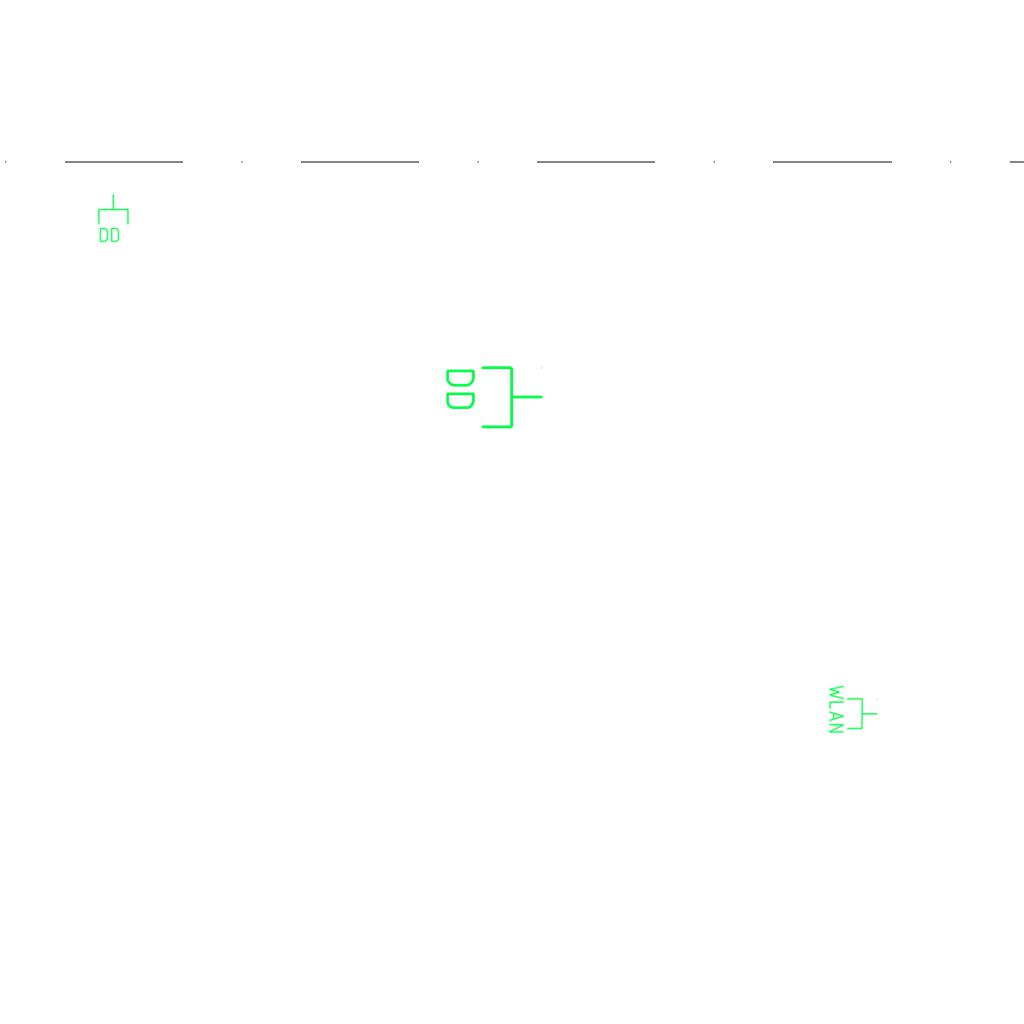Datenanschluss_zweifach: (442, 362, 545, 431), (96, 193, 130, 244)
WLAN: (827, 683, 879, 735)
